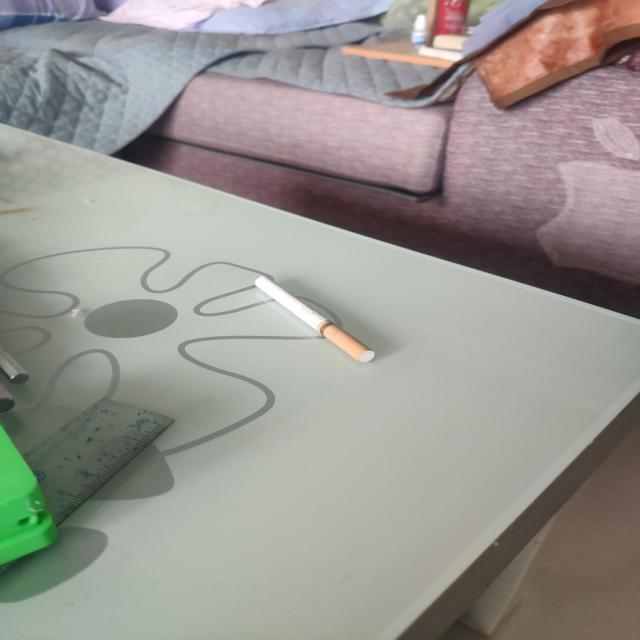smoking: (254, 276, 377, 364)
